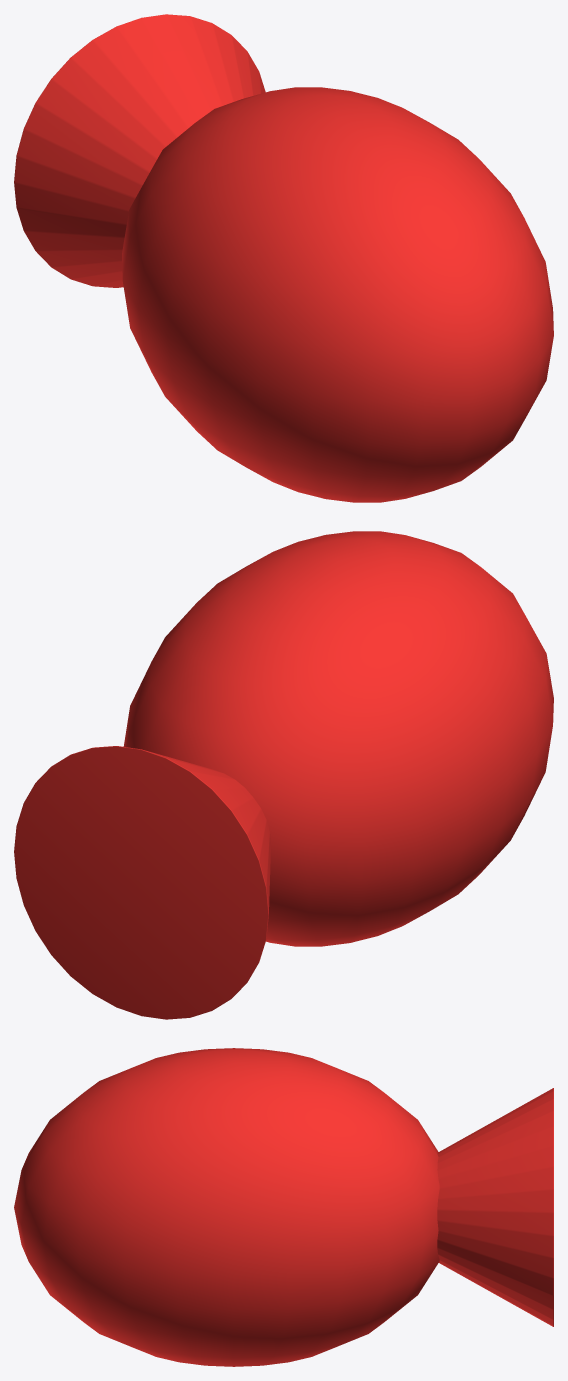
File: Ammo_Ketchup.glb
3 views of the same model, one above another, from view 1: azimuth 30°, elevation 25°; view 2: azimuth 150°, elevation 25°; view 3: azimuth 270°, elevation 25° (orthographic). The views are drawn at different scales.
Parts seen in each view (by area): view 1: Sphere, Cone; view 2: Sphere, Cone; view 3: Sphere, Cone.
Boxes of the visible parts, <box> form: Sphere: <box>122,87,553,502</box>; Cone: <box>14,14,265,287</box>; Sphere: <box>123,531,553,946</box>; Cone: <box>14,746,270,1019</box>; Sphere: <box>14,1048,439,1366</box>; Cone: <box>437,1088,553,1326</box>.
Bounding box in the file's own units: 0.8 × 0.8 × 1.35.
